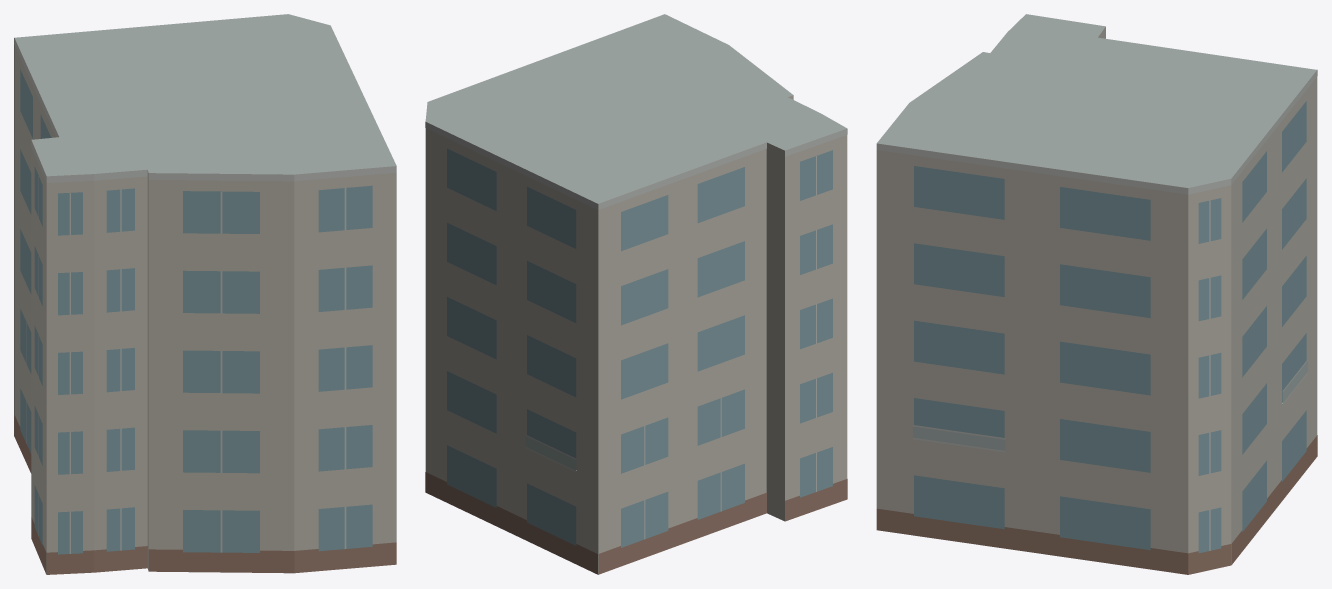
File: survey-upis-32718049.glb
3 renders of one model, left to right at view 1: azimuth 30°, elevation 25°; view 2: azimuth 150°, elevation 25°; view 3: azimuth 270°, elevation 25°, orthographic. The views are drawn at different scales.
Visible parts, largest first — view 1: survey-upis-32718049.tmp; view 2: survey-upis-32718049.tmp; view 3: survey-upis-32718049.tmp.
Part boxes in pixels (<box>): survey-upis-32718049.tmp: <box>14,14,396,574</box>; survey-upis-32718049.tmp: <box>425,14,847,574</box>; survey-upis-32718049.tmp: <box>876,14,1317,574</box>.
Size of the model in its own units: 14.01 by 14.5 by 14.99.
